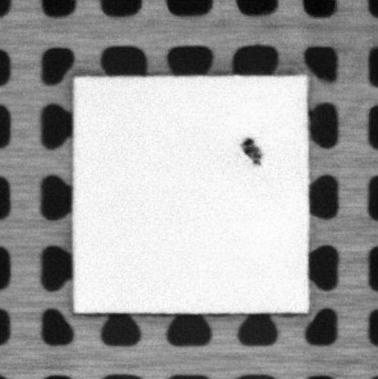DIE_INK: (241, 137, 263, 168)
